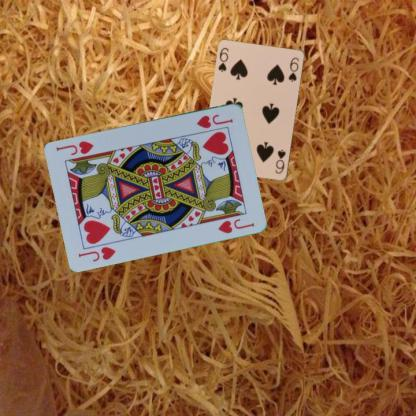6s: (215, 45, 230, 73), (273, 147, 287, 175)
Jh: (76, 238, 118, 262), (194, 112, 235, 130)
